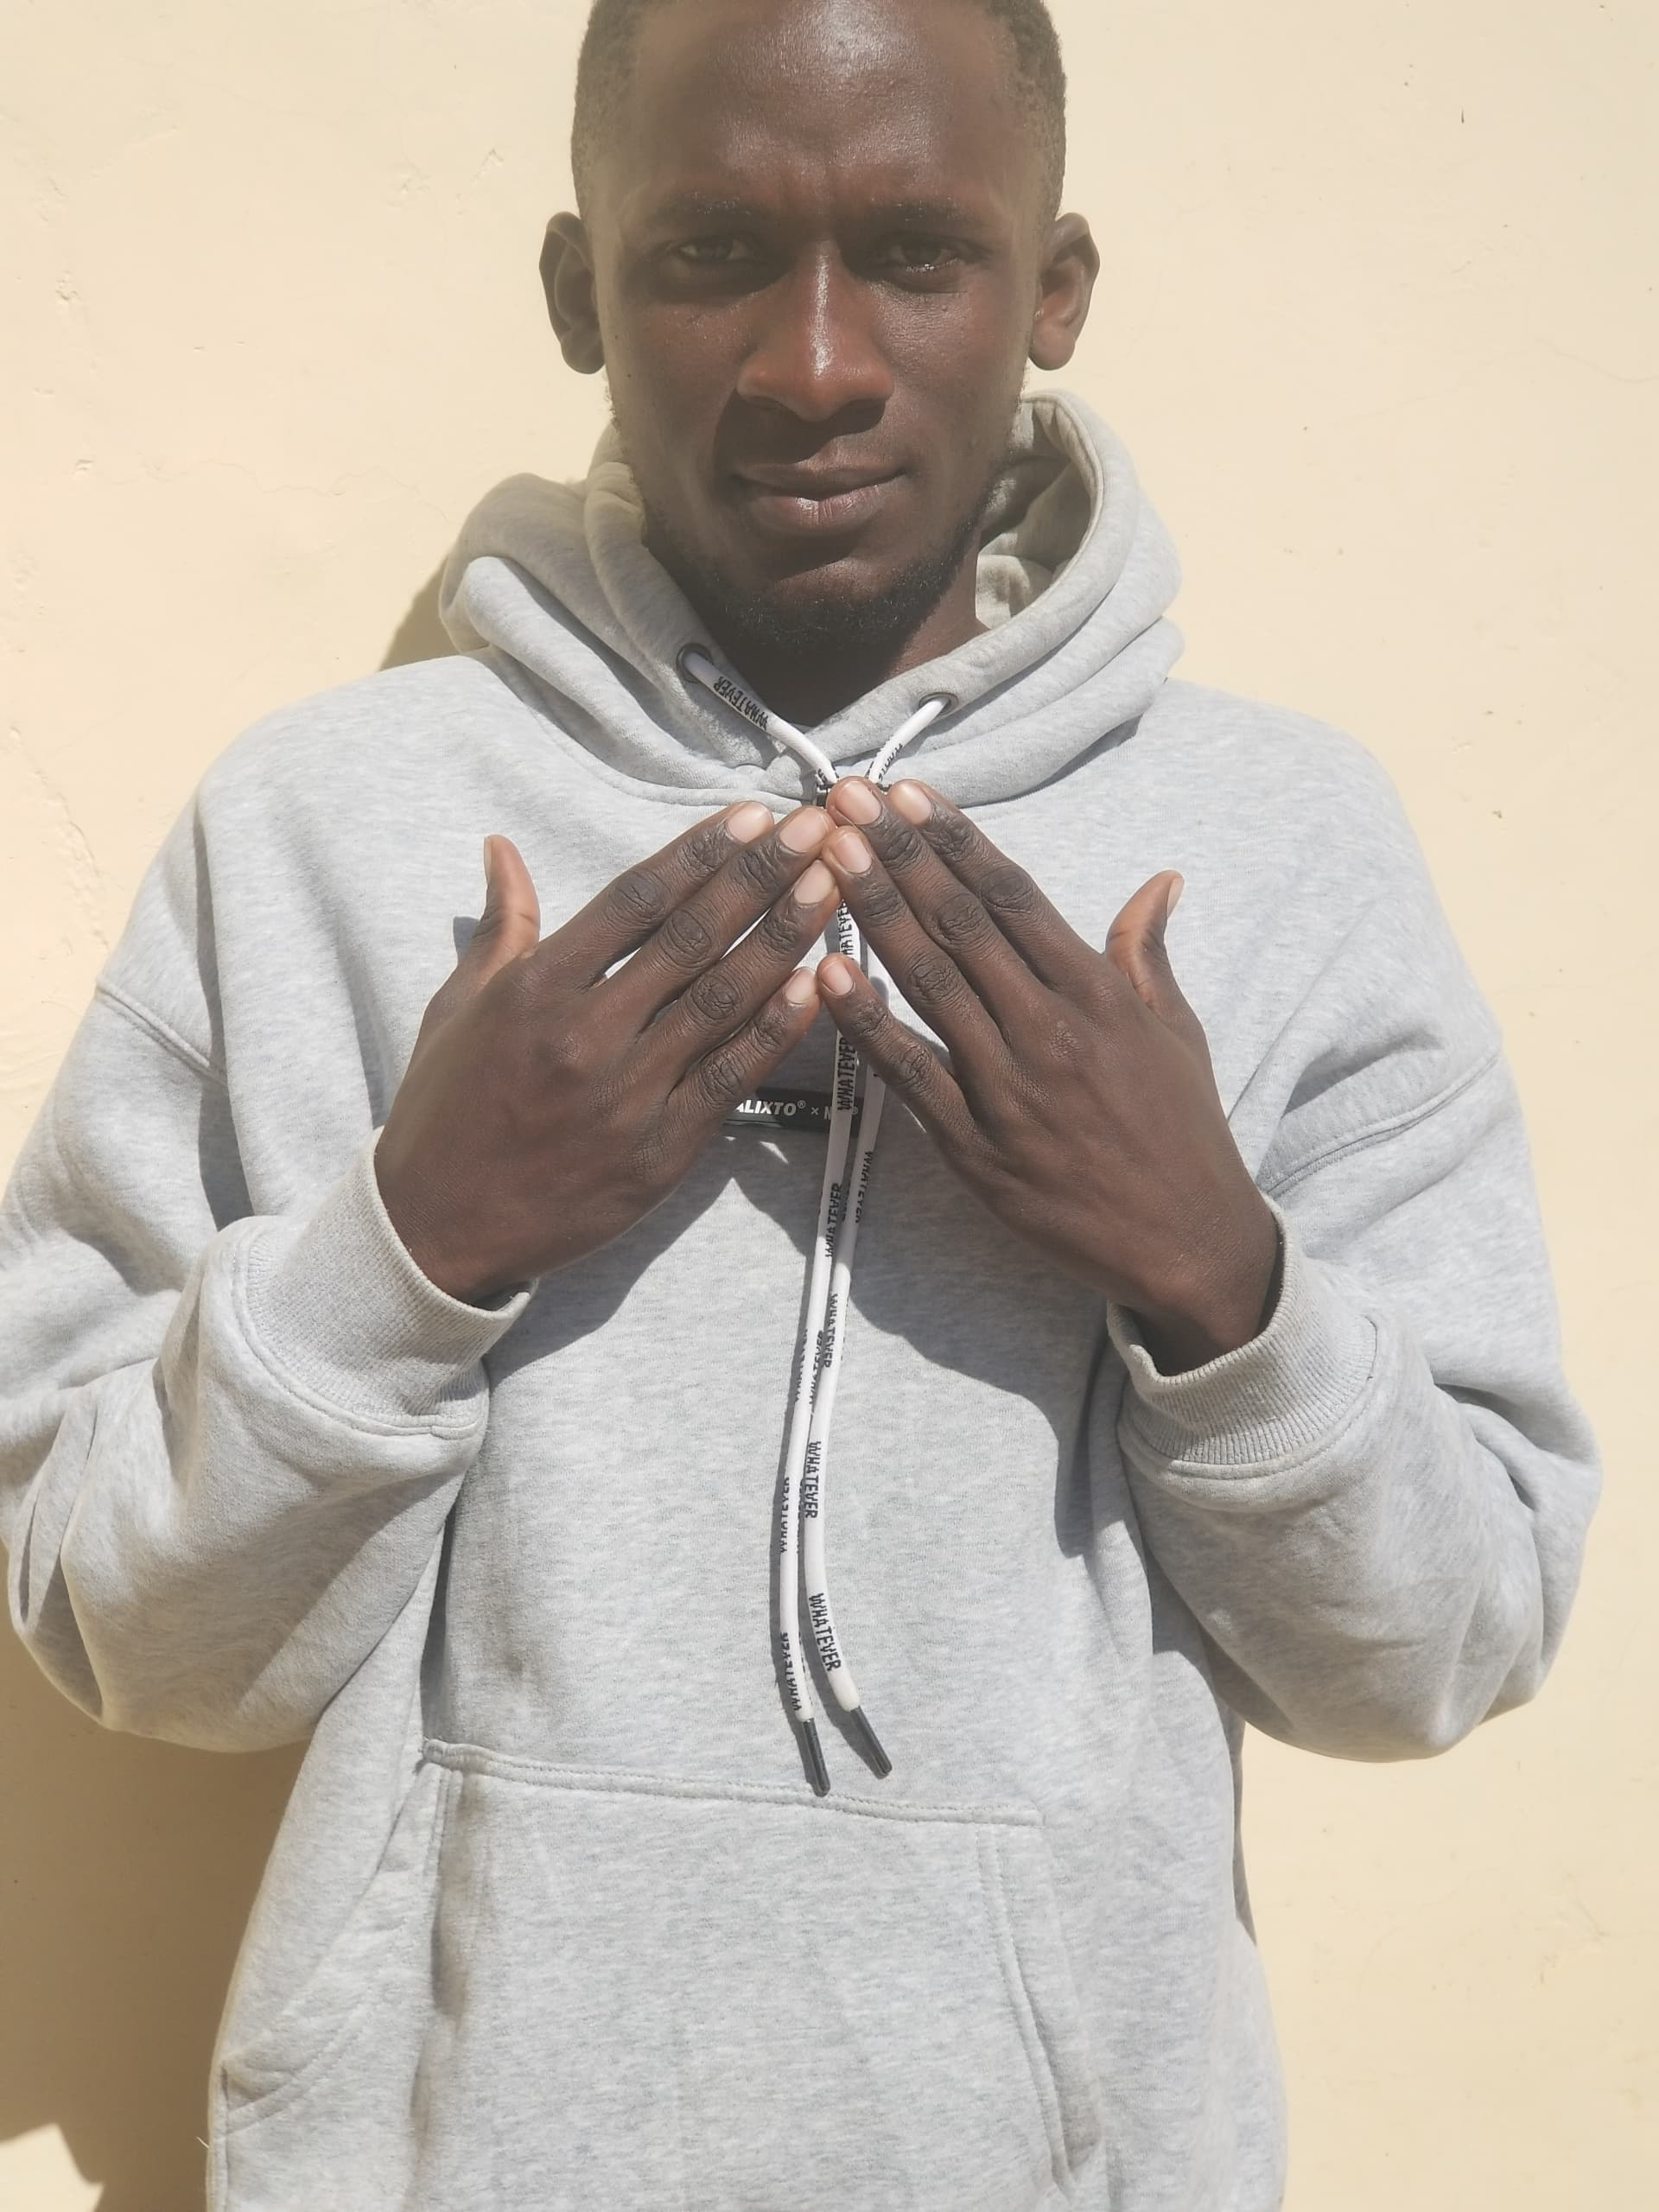thankyou: (295, 730, 1331, 1381)
